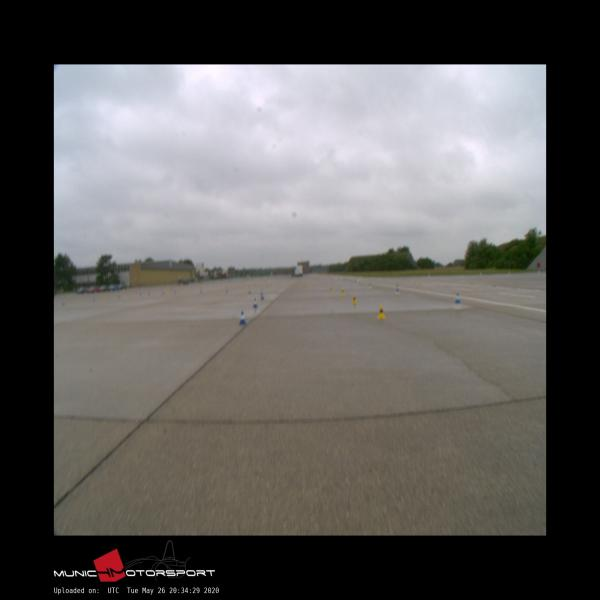blue_cone: (239, 310, 246, 324), (252, 298, 258, 308)
yellow_cone: (377, 304, 385, 318), (352, 295, 356, 304)
